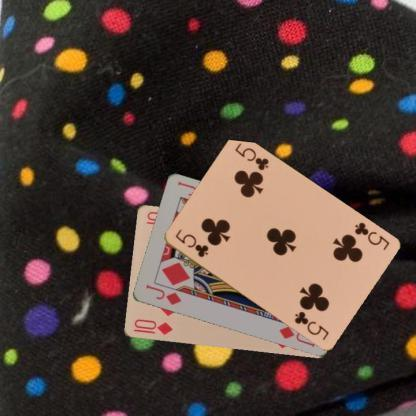10d: (131, 316, 174, 336)
5c: (351, 219, 391, 252), (172, 226, 209, 259)
Jd: (142, 282, 182, 307)
